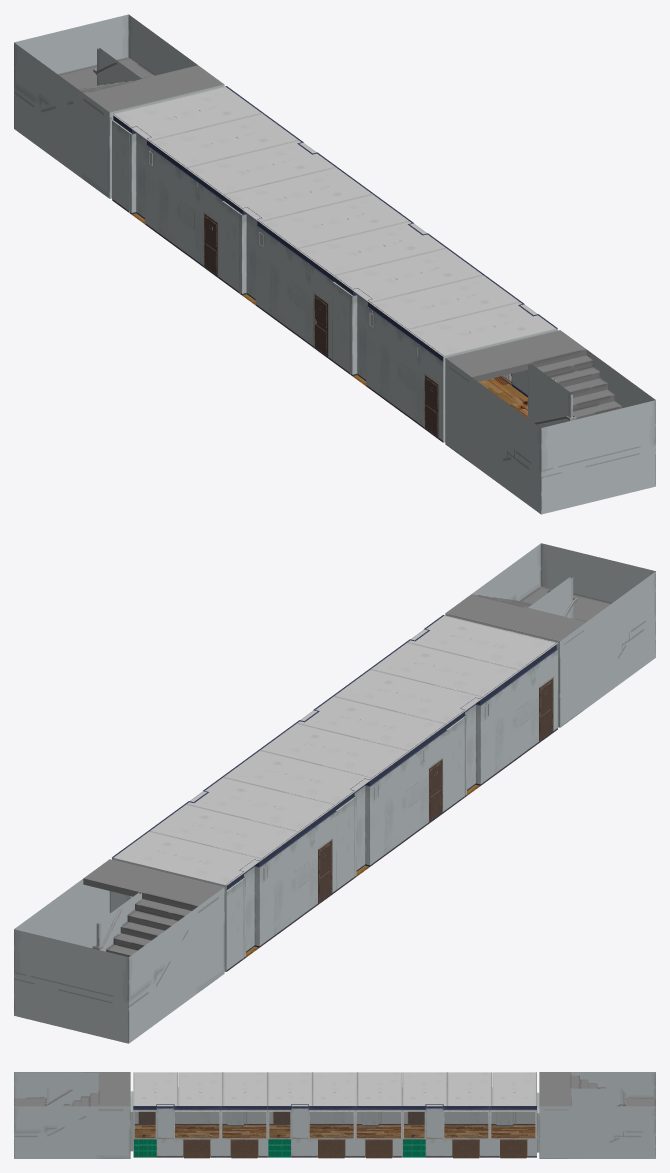
File: the_japanese_school_corridor.glb
3 views of the same model, one above another, from view 1: azimuth 30°, elevation 25°; view 2: azimuth 150°, elevation 25°; view 3: azimuth 270°, elevation 25° (orthographic). The views are drawn at different scales.
Parts seen in each view (by area): view 1: The Japanese school corridor; view 2: The Japanese school corridor; view 3: The Japanese school corridor.
Part boxes in pixels (bbox=[...]): The Japanese school corridor: bbox=[14, 14, 655, 514]; The Japanese school corridor: bbox=[14, 543, 655, 1043]; The Japanese school corridor: bbox=[14, 1072, 655, 1158].
Bounding box in the file's own units: 4.67 × 3.35 × 37.
Materials: 5 (5 with a texture image).
